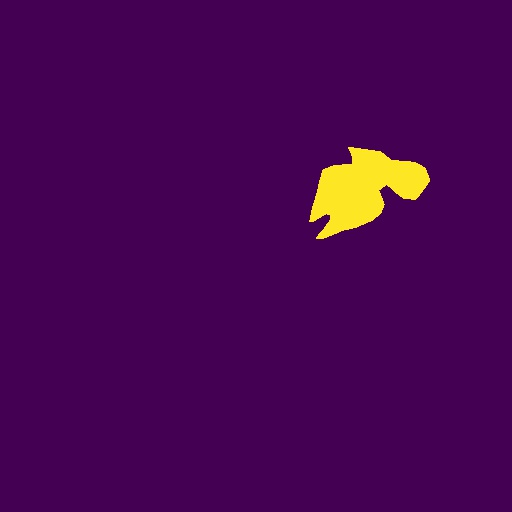Gliomia_tumour: (309, 147, 430, 239)
